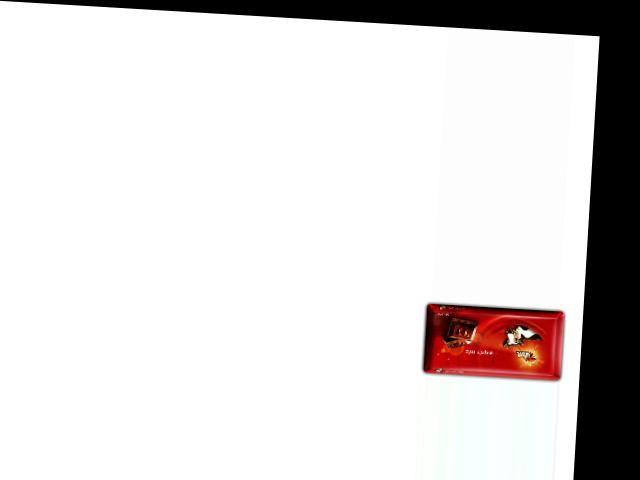chocolate: (420, 298, 572, 381)
